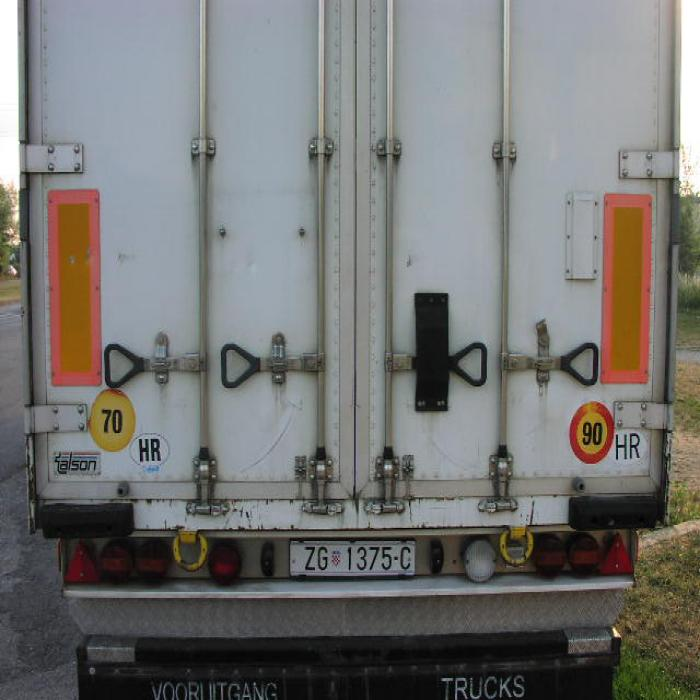number_plate: (289, 541, 413, 575)
